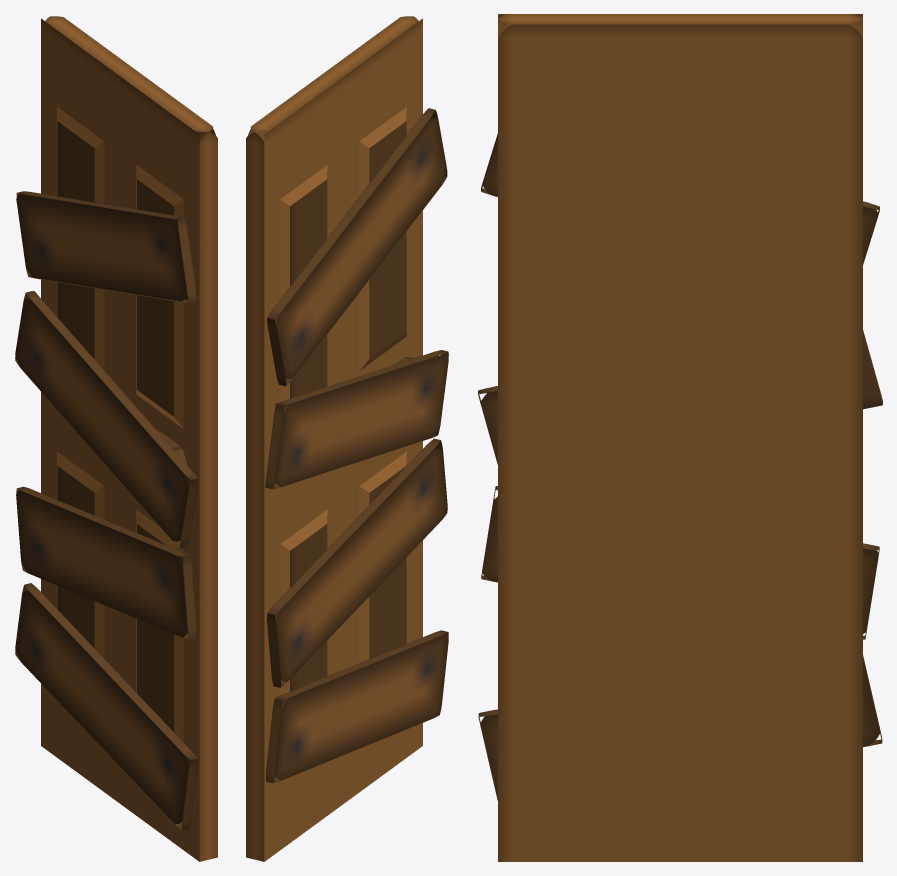
Rendered from Door_Locked.fbx.
The picture shows the model from 3 angles, left to right: view 1: azimuth 30°, elevation 25°; view 2: azimuth 150°, elevation 25°; view 3: azimuth 270°, elevation 25°; orthographic projection. The views are drawn at different scales.
Visible parts, largest first — view 1: cuboid, cuboid_2, cuboid_4, cuboid_3, cuboid_1; view 2: cuboid, cuboid_1, cuboid_3, cuboid_4, cuboid_2; view 3: cuboid, cuboid_4, cuboid_3, cuboid_2, cuboid_1.
Boxes of the visible parts, x1,y1,x2,y2 form: cuboid: (41,16,217,861); cuboid_2: (15,291,197,548); cuboid_4: (15,583,197,830); cuboid_3: (16,486,196,639); cuboid_1: (16,191,196,303); cuboid: (246,16,422,861); cuboid_1: (267,108,447,386); cuboid_3: (267,438,447,687); cuboid_4: (266,630,448,783); cuboid_2: (265,350,448,489); cuboid: (498,14,862,861); cuboid_4: (478,655,882,800); cuboid_3: (481,486,879,639); cuboid_2: (478,330,882,464); cuboid_1: (481,133,879,264).
Size of the model in its own units: 2.5 by 47.5 by 20.8.
1 material, 1 textured.
